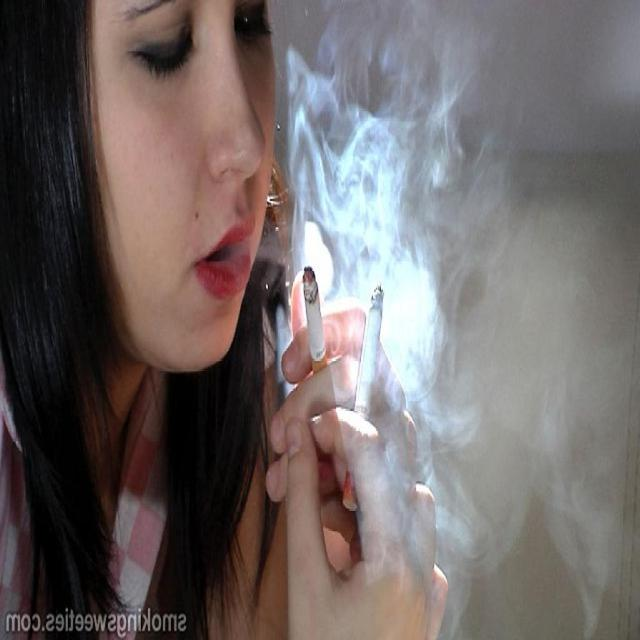smoking: (106, 0, 448, 640)
